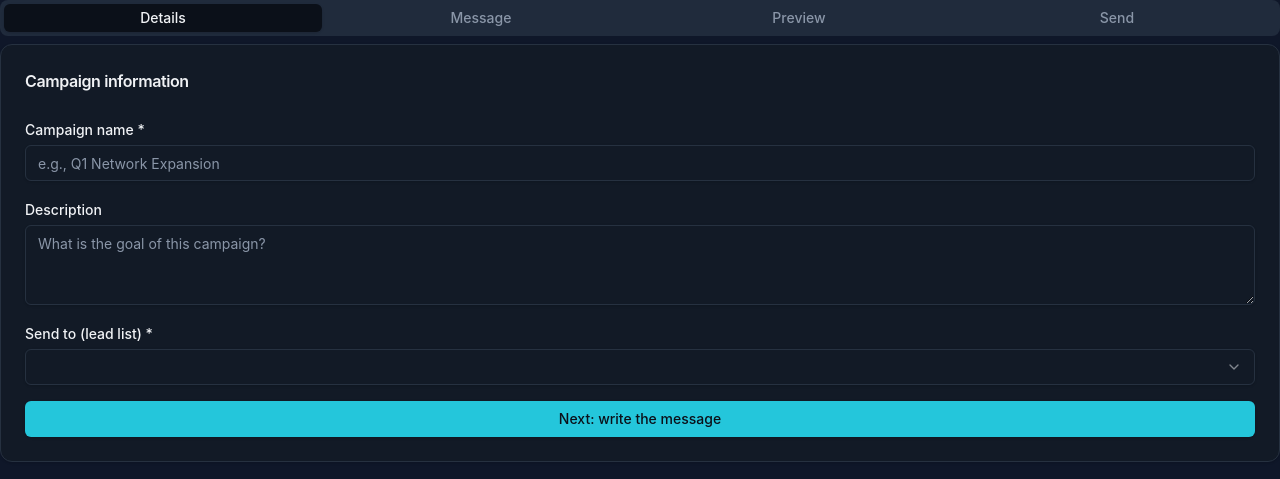
Test: CampaignBuilder › won't send to a preselected list until it has loaded
The width and height of the screenshot is (1280, 479).
Press the mouse on the tab "Send" at (1117, 18), box [958,4,1276,32]
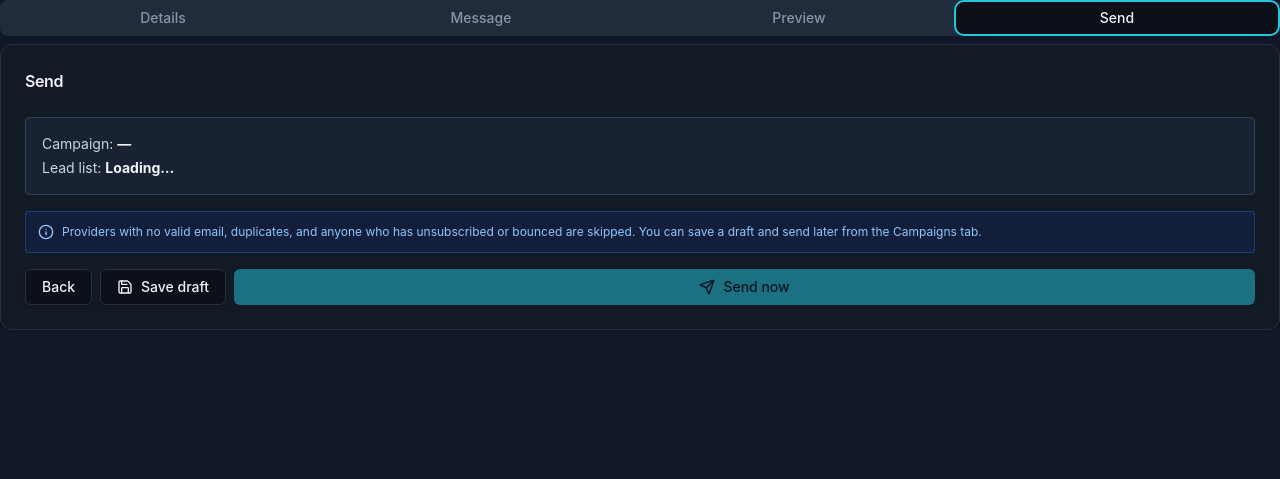
expect the text "Loading…" is shown: met, box [105,159,174,176]
expect the button "Send now" is disabled: met, box [234,269,1255,305]
